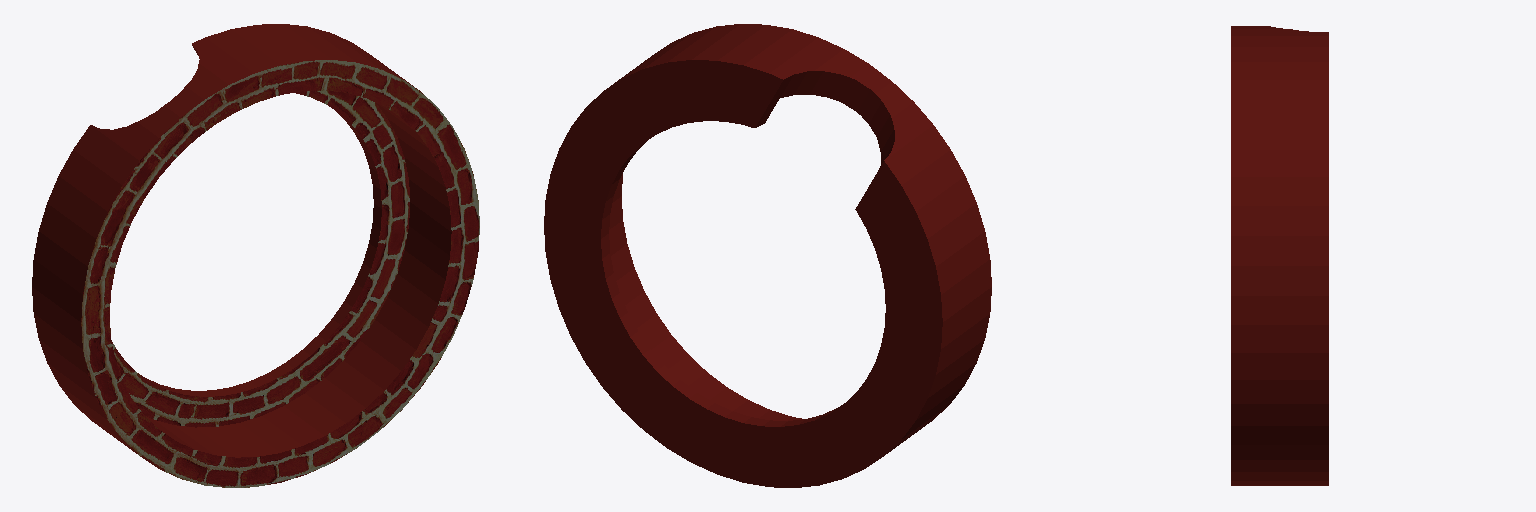
The picture shows the model from 3 angles: view 1: azimuth 30°, elevation 25°; view 2: azimuth 150°, elevation 25°; view 3: azimuth 270°, elevation 25°; orthographic projection.
Size of the model in its own units: 14 by 14 by 3.
1 materials, 1 textured.